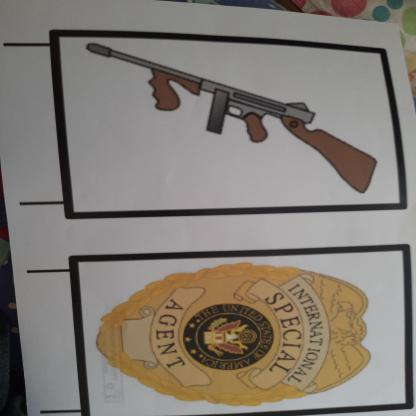Bootlegger: (74, 34, 392, 202)
G-man: (77, 261, 389, 416)
